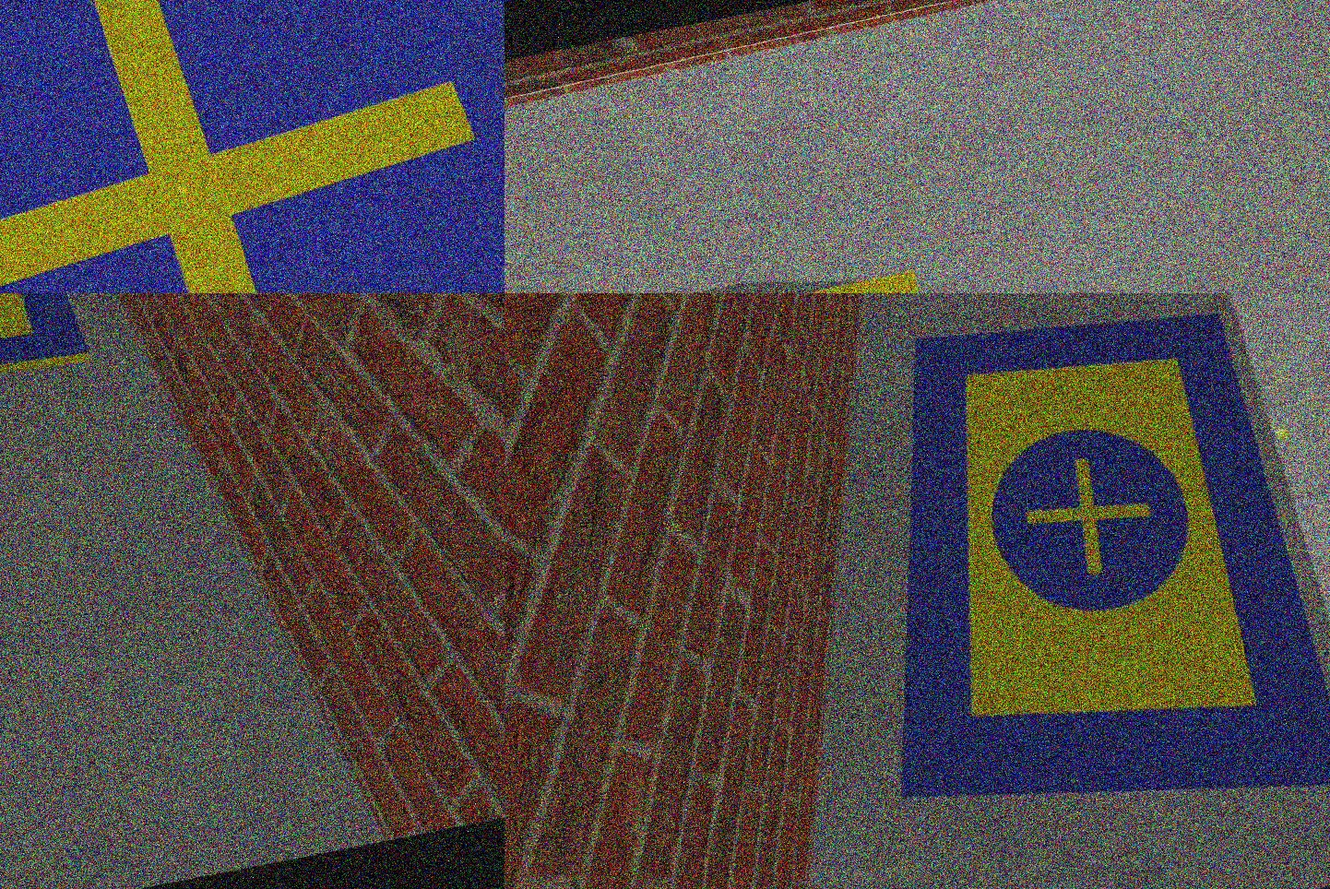large_base: (816, 293, 1330, 871)
small_base: (1, 1, 505, 293)
